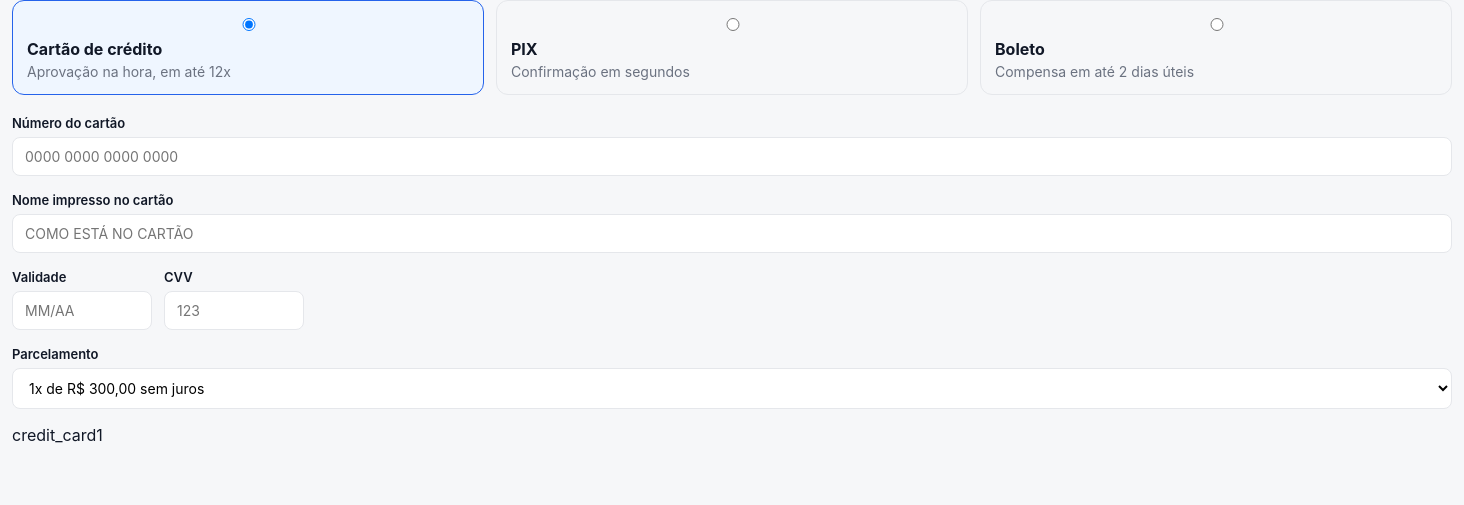
Scenario: PaymentForm › aplica a máscara do cartão enquanto digita
Type "4242424242424242" into the field labelled "Número do cartão". click: (732, 156)
box: [12,137,1452,176]
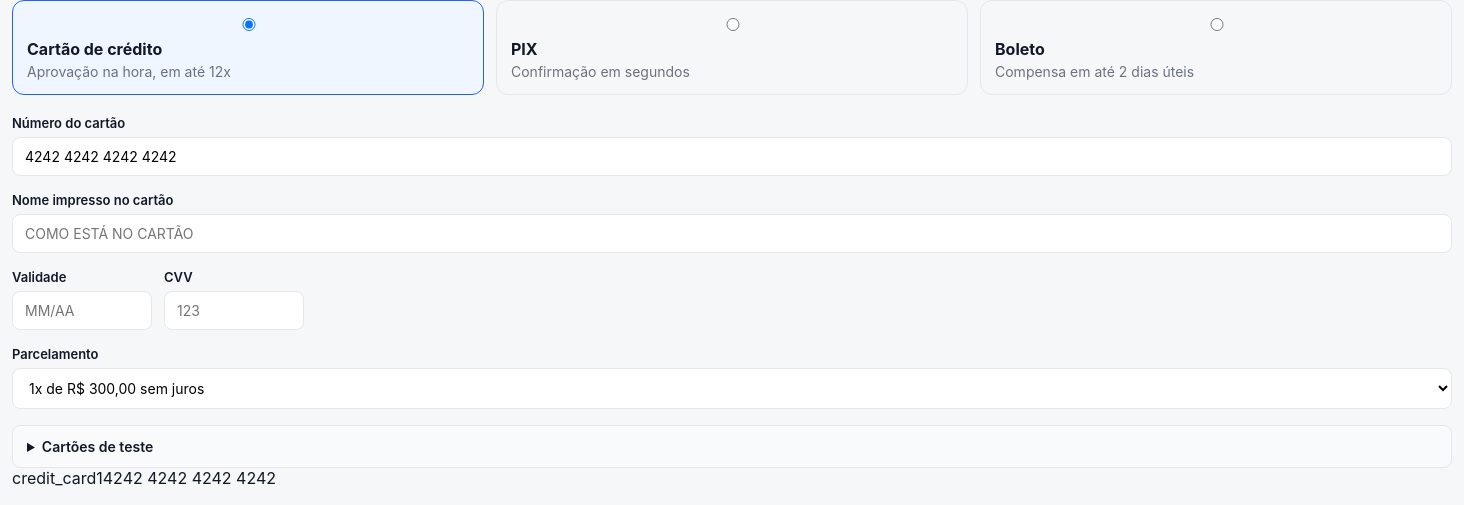
expect the text with test id "number" reads "4242 4242 4242 4242": met, box [103,468,276,488]
